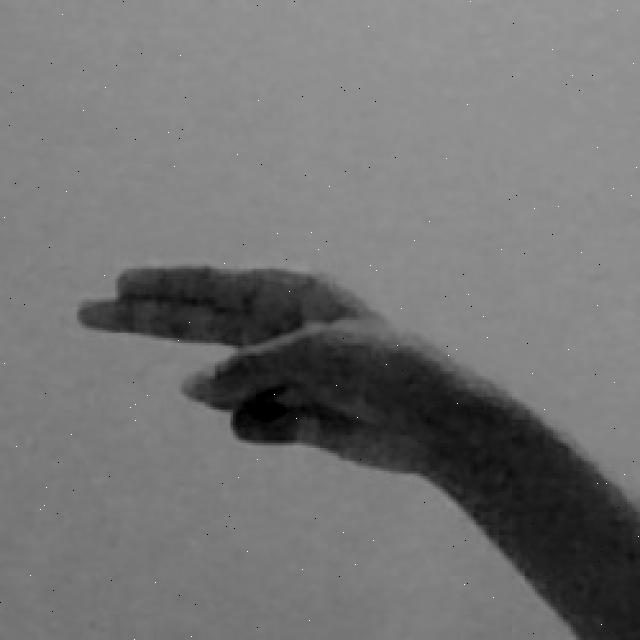H: (71, 253, 640, 640)
